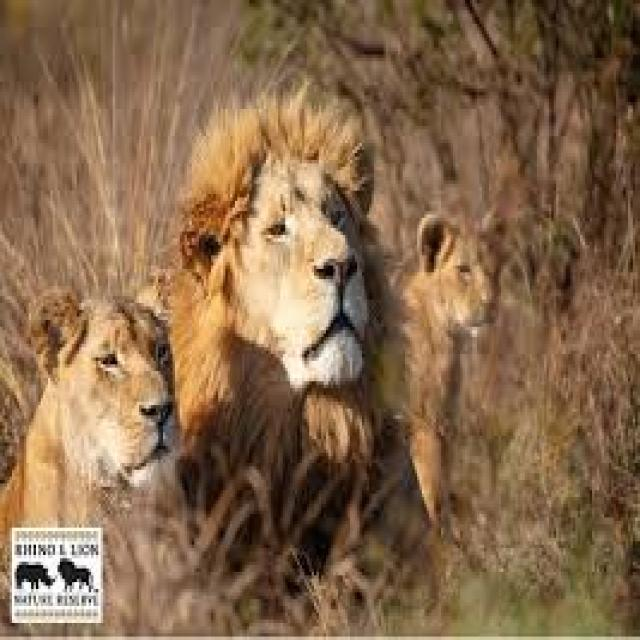Lion: (182, 121, 383, 454), (6, 285, 183, 513), (404, 213, 501, 492)
